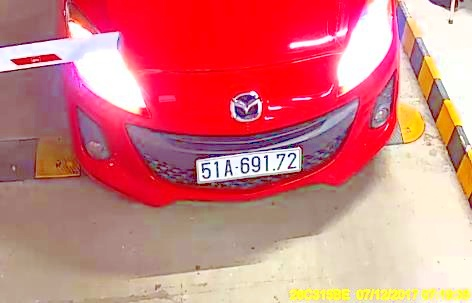plate: (193, 149, 303, 182)
